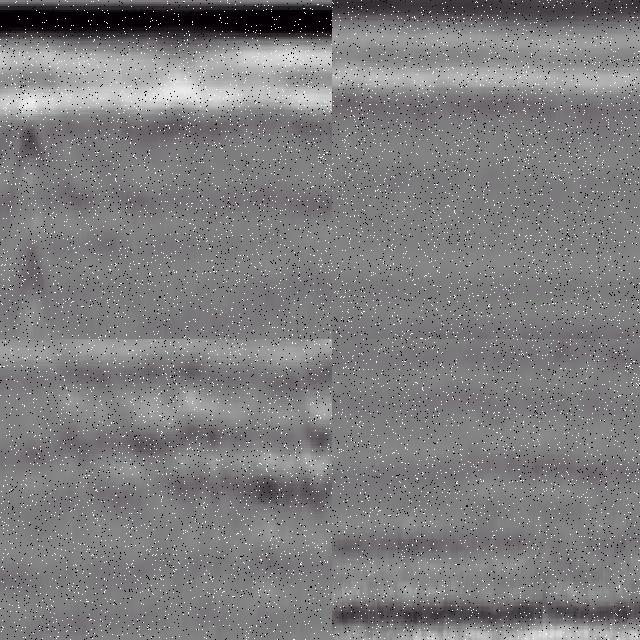crack: (10, 89, 47, 340)
loose: (82, 373, 333, 507), (333, 340, 461, 417)
